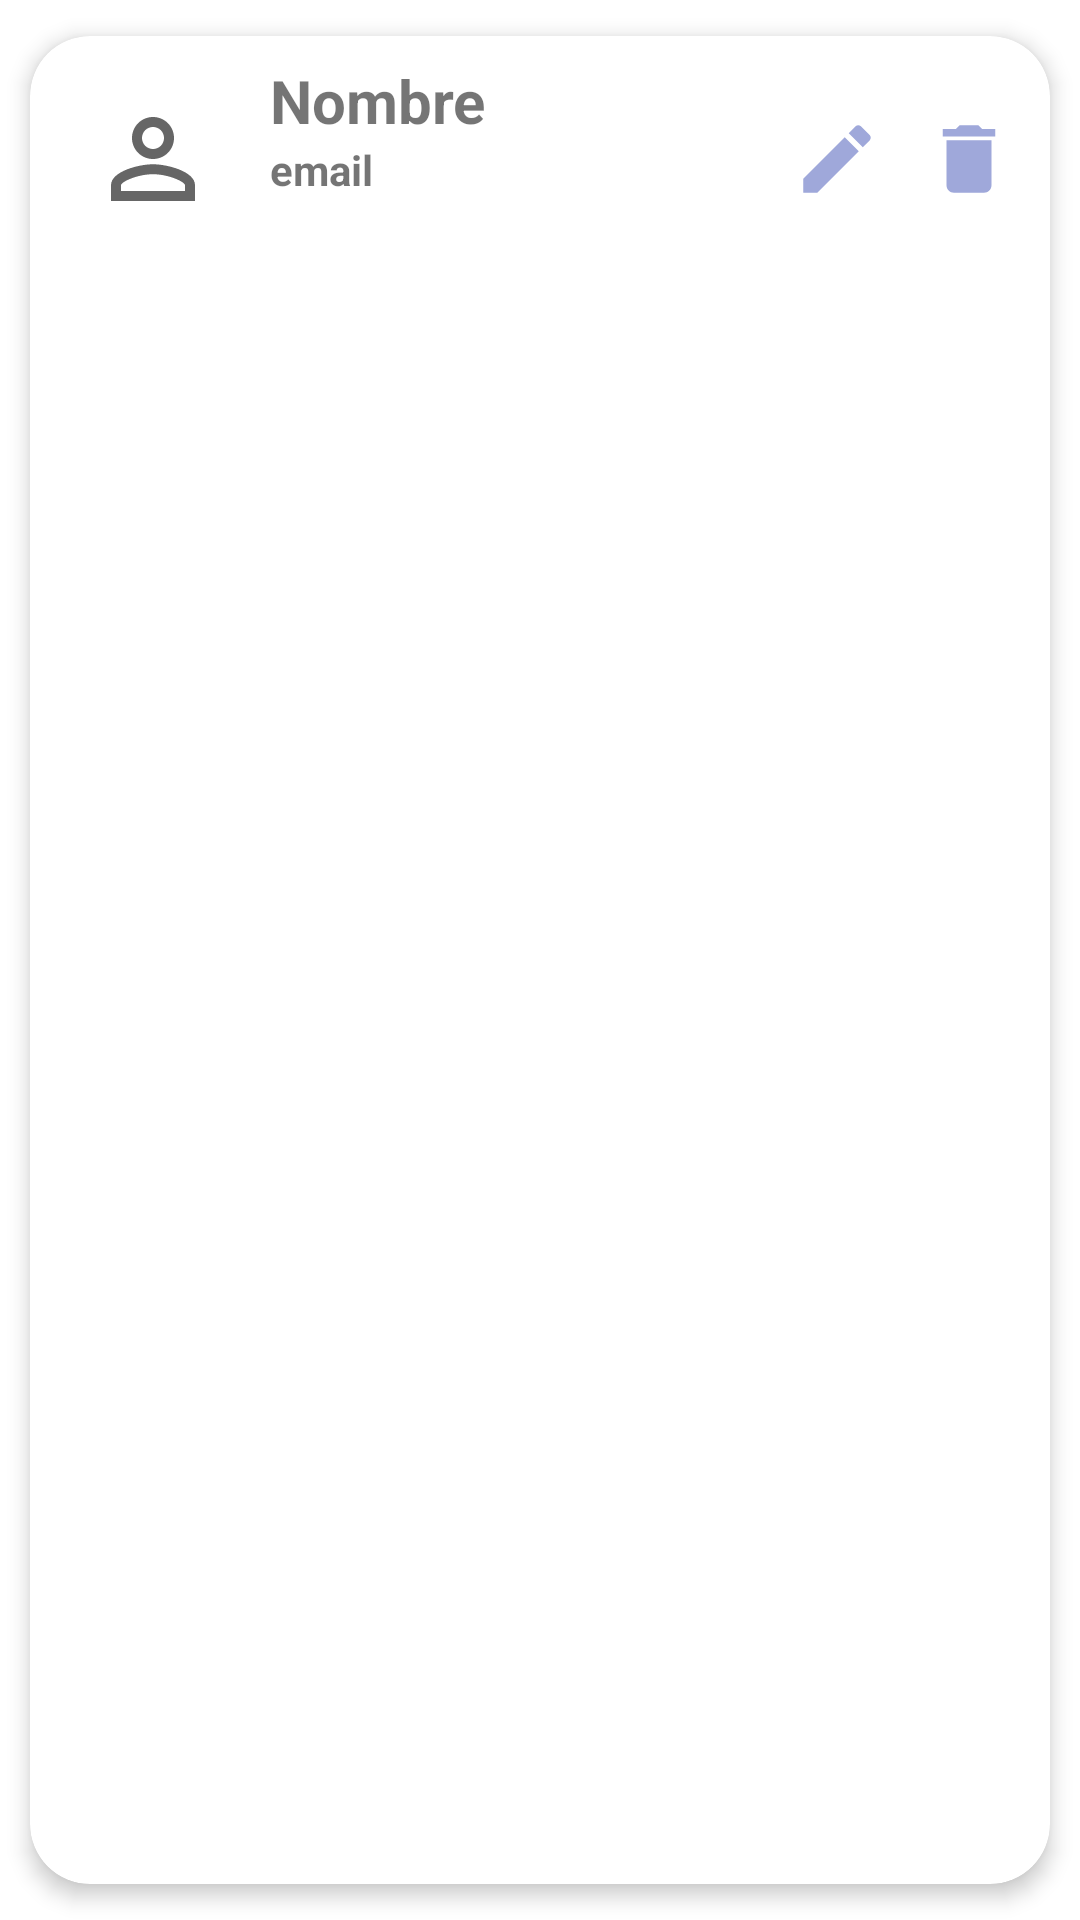

Named icons in this screenshot (1080*1920) and their bounding boxes, rect(x1, y1, x2, y2):
create: rect(803, 125, 871, 193)
delete: rect(943, 125, 995, 193)
perm identity: rect(111, 117, 195, 201)
